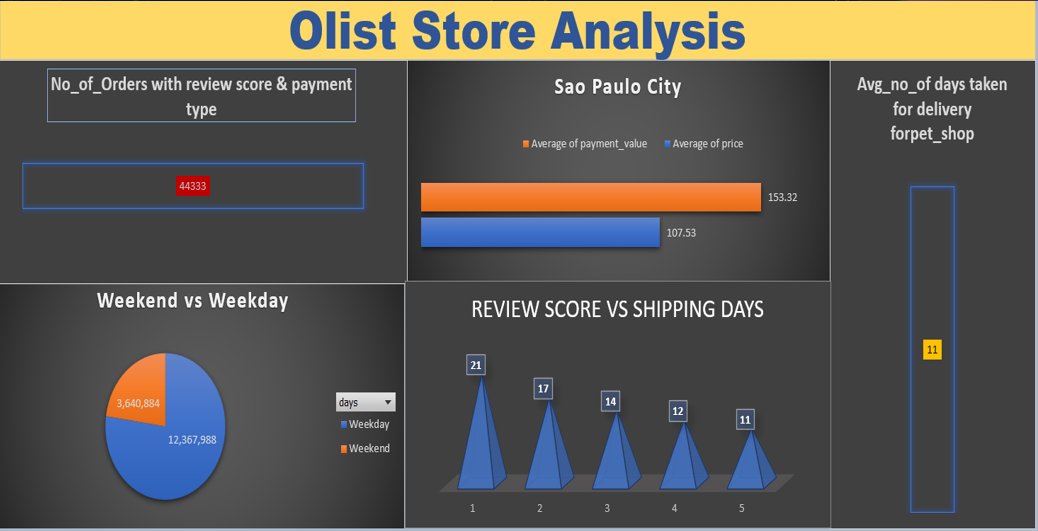

The dashboard page shown, as its layout file describes it:
{"tool":"tableau","page":{"name":"Master Dashboard","canvas":[1000,1000],"units":"permille","ordinal":5},"visuals":[{"type":"blank","box":[0,0,1000,23.5]},{"type":"image","param":"C:/Users/afrin/Downloads/olist.png","box":[0,23.5,127.3,117.5]},{"type":"text","box":[127.3,23.5,823.8,117.5]},{"type":"dashboard-object","box":[951.1,23.5,48.9,117.5]},{"type":"blank","box":[0,141,1000,23.5]},{"type":"image","param":"C:/Users/afrin/Downloads/pet.jpg","box":[3,170.4,71.8,141]},{"type":"worksheet","title":"KPI - 3","mark":"Automatic","rows":["product_category_name"],"box":[74.8,170.4,400.1,141]},{"type":"worksheet","title":"Sheet 21","mark":"Automatic","rows":["payment_type","review_score"],"box":[475,170.4,522,141]},{"type":"worksheet","title":"Donut-ww","mark":"Pie","rows":["Calculation_264023543316213761","Calculation_264023543316226051"],"box":[12.1,340.8,325.3,635.7]},{"type":"worksheet","title":"KPI - 5","mark":"Automatic","rows":["Calculation_450922927159508995","Calculation_450922927159508995"],"cols":["review_score"],"box":[337.4,340.8,325.3,635.7]},{"type":"worksheet","title":"KPI - 4","mark":"Automatic","box":[662.6,340.8,325.3,635.7]}]}

Visuals, with their boxes on the dashboard's canvas, which has no fixed pixel size, in thousandths of its width and height (x1, y1, x2, y2). These are canvas units, not pixel positions in the 1038x531 screenshot, which may show the page scaled, cropped or inside an application window:
blank: 0 0 1000 24
image: 0 24 127 141
text: 127 24 951 141
dashboard-object: 951 24 1000 141
blank: 0 141 1000 164
image: 3 170 75 311
"KPI - 3" worksheet: 75 170 475 311
"Sheet 21" worksheet: 475 170 997 311
"Donut-ww" worksheet (Pie marks): 12 341 337 976
"KPI - 5" worksheet: 337 341 663 976
"KPI - 4" worksheet: 663 341 988 976
